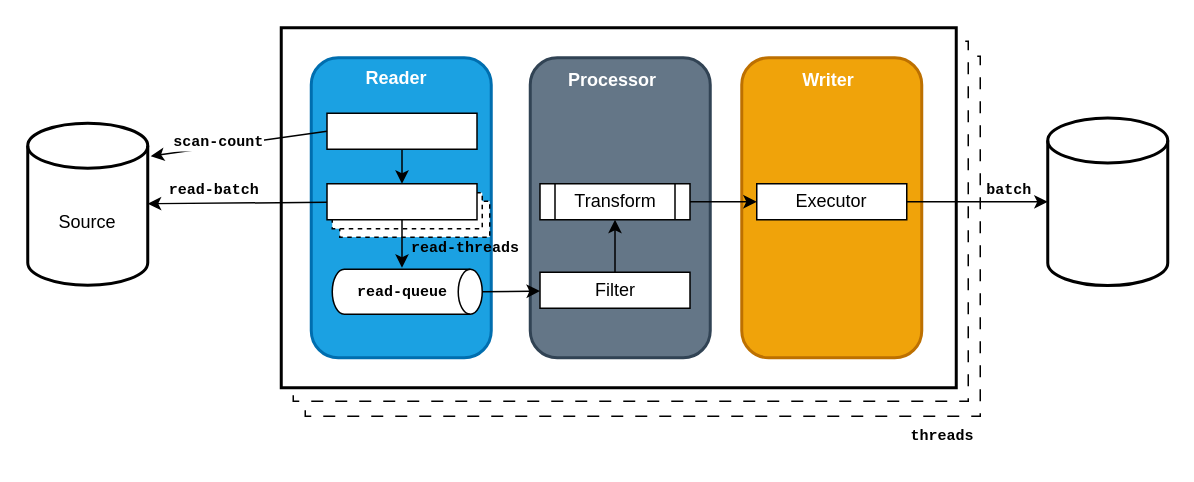
Image size: 1194x482. Some labels were removed from this diagram. Here are the shapes that lost their labels. From the top down, the box of each, then its label:
(326, 112, 477, 149): Key Reader
(326, 182, 477, 220): Value Reader
(1046, 116, 1168, 286): Target
